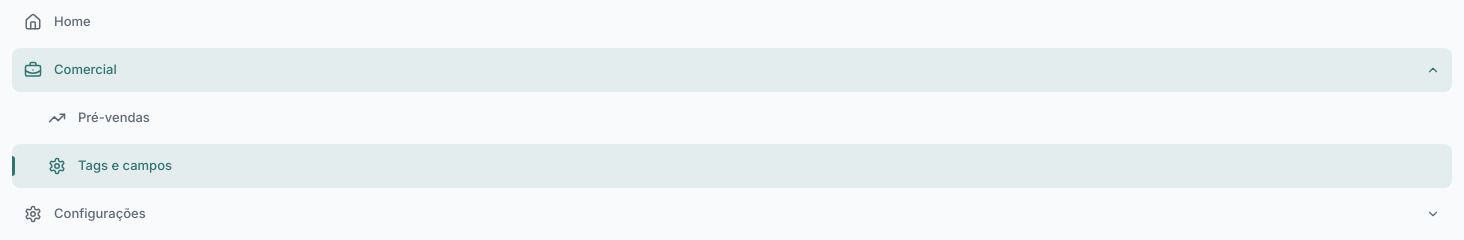
Scenario: navegação do sistema › retira os links da navegação por teclado assim que um grupo começa a fechar
The image size is (1464, 240).
Click the button "Comercial": (85, 69) x1=12 y1=48 x2=1452 y2=92
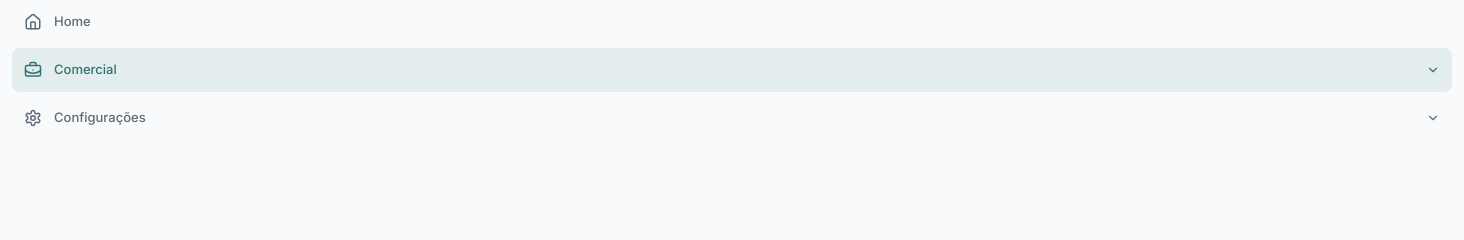
Now the link "Tags e campos" is gone
